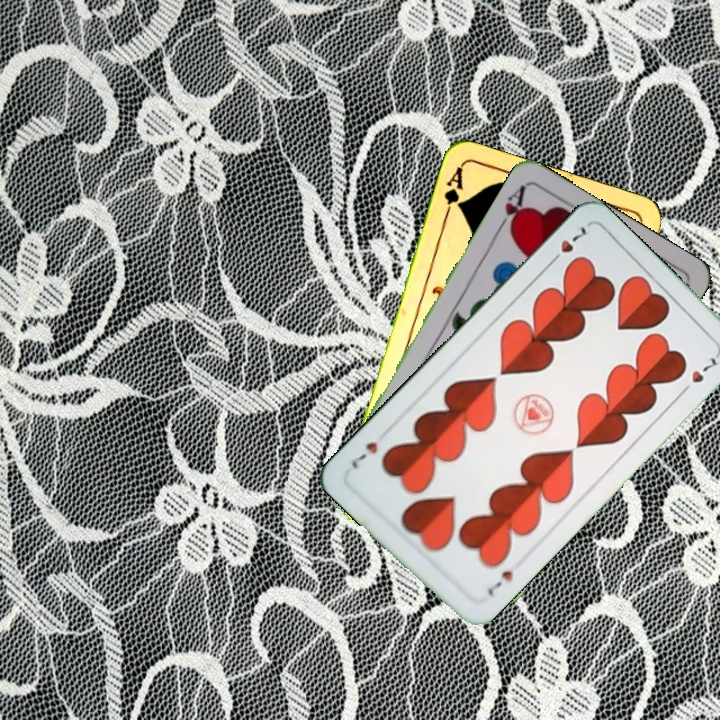GA: (439, 163, 466, 221)
H7: (544, 221, 592, 268), (482, 566, 516, 599)
HA: (492, 181, 529, 236)
